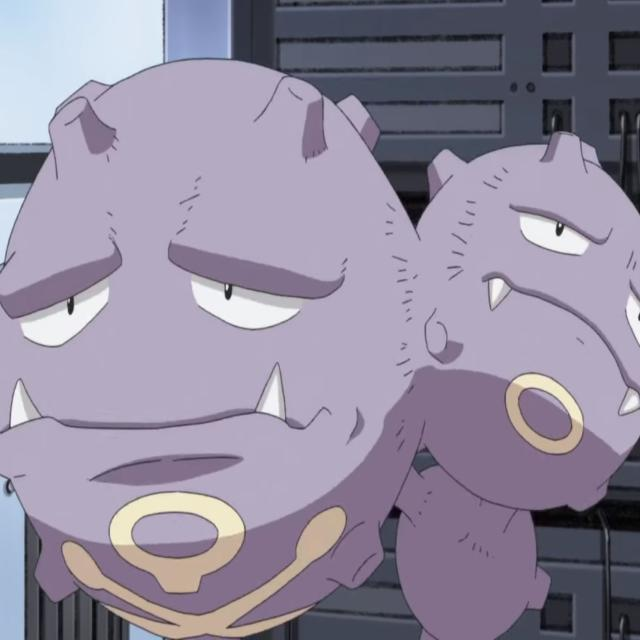Weezing: (0, 119, 639, 597)
